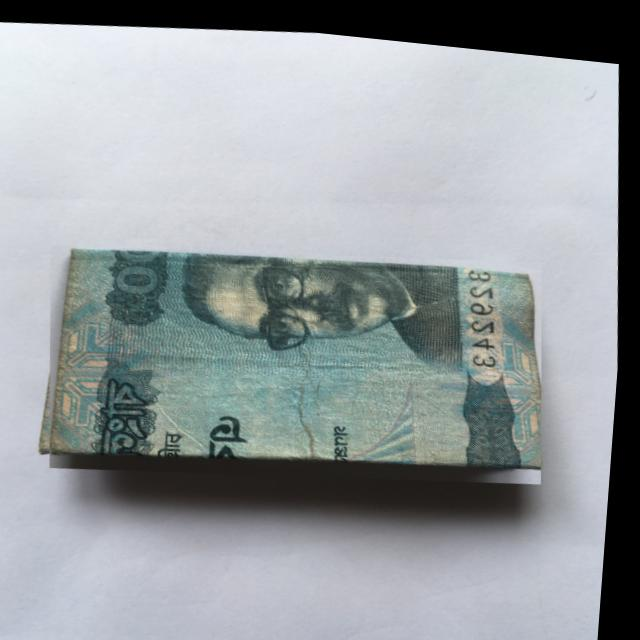Taka: (41, 210, 560, 505)
